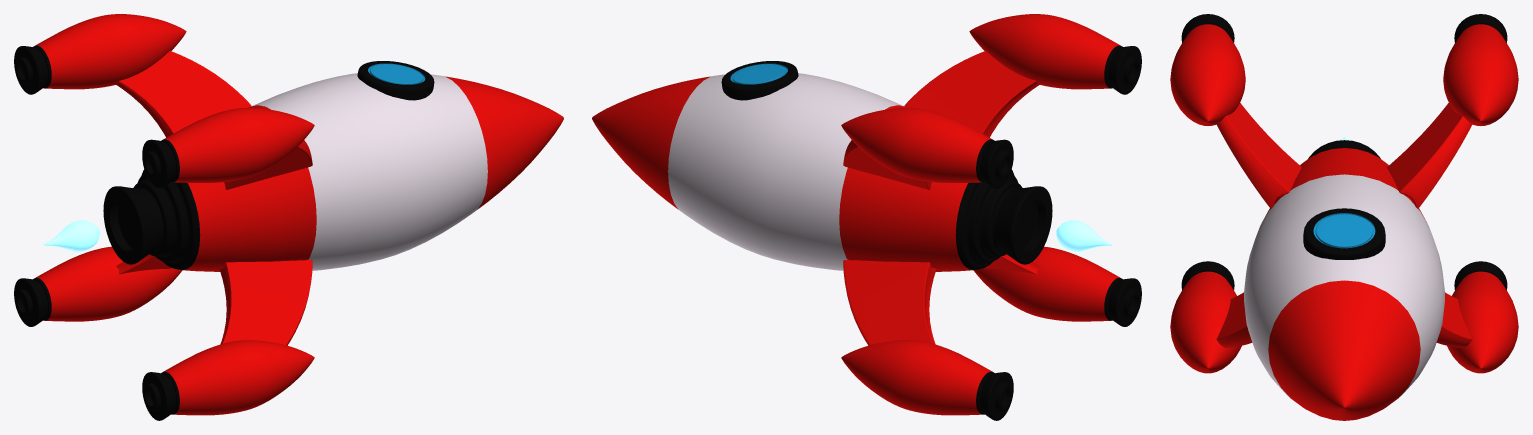
File: space_rocket.glb
The picture shows the model from 3 angles, left to right: view 1: azimuth 30°, elevation 25°; view 2: azimuth 150°, elevation 25°; view 3: azimuth 270°, elevation 25°; orthographic projection. The views are drawn at different scales.
Parts seen in each view (by area): view 1: Circle_2, Circle.003_5, Circle.001_3, Circle.007_9, Circle.005_7, Circle.004_6, Circle.008_10, Cylinder_11, Circle.002_4, Circle, Circle.006_8; view 2: Circle_2, Circle.005_7, Circle.007_9, Circle.001_3, Circle.003_5, Circle.006_8, Circle.002_4, Cylinder_11, Circle.008_10, Circle, Circle.004_6; view 3: Circle_2, Circle.007_9, Circle.001_3, Circle.005_7, Circle.003_5, Circle.008_10, Circle.002_4, Cylinder_11, Circle.004_6, Circle.006_8.
Boxes of the visible parts, bbox=[...] form: Circle_2: bbox=[103, 73, 563, 271]; Circle.003_5: bbox=[142, 340, 314, 420]; Circle.001_3: bbox=[142, 107, 314, 188]; Circle.007_9: bbox=[14, 14, 186, 94]; Circle.005_7: bbox=[14, 246, 182, 326]; Circle.004_6: bbox=[219, 260, 312, 345]; Circle.008_10: bbox=[116, 51, 251, 137]; Cylinder_11: bbox=[357, 61, 434, 100]; Circle.002_4: bbox=[224, 140, 312, 189]; Circle: bbox=[44, 220, 99, 251]; Circle.006_8: bbox=[116, 254, 171, 274]; Circle_2: bbox=[592, 73, 1052, 271]; Circle.005_7: bbox=[841, 340, 1013, 420]; Circle.007_9: bbox=[841, 107, 1013, 188]; Circle.001_3: bbox=[969, 14, 1141, 94]; Circle.003_5: bbox=[973, 246, 1141, 326]; Circle.006_8: bbox=[843, 260, 936, 345]; Circle.002_4: bbox=[904, 51, 1039, 137]; Cylinder_11: bbox=[721, 61, 798, 100]; Circle.008_10: bbox=[843, 140, 931, 189]; Circle: bbox=[1056, 220, 1111, 251]; Circle.004_6: bbox=[984, 254, 1039, 274]; Circle_2: bbox=[1244, 140, 1444, 420]; Circle.007_9: bbox=[1443, 14, 1518, 125]; Circle.001_3: bbox=[1170, 14, 1245, 125]; Circle.005_7: bbox=[1447, 261, 1518, 373]; Circle.003_5: bbox=[1170, 261, 1241, 373]; Circle.008_10: bbox=[1387, 103, 1472, 208]; Circle.002_4: bbox=[1216, 102, 1301, 208]; Cylinder_11: bbox=[1303, 208, 1385, 259]; Circle.004_6: bbox=[1216, 292, 1252, 347]; Circle.006_8: bbox=[1436, 292, 1472, 347].
Size of the model in its own units: 2.51 by 1.37 by 1.37.
